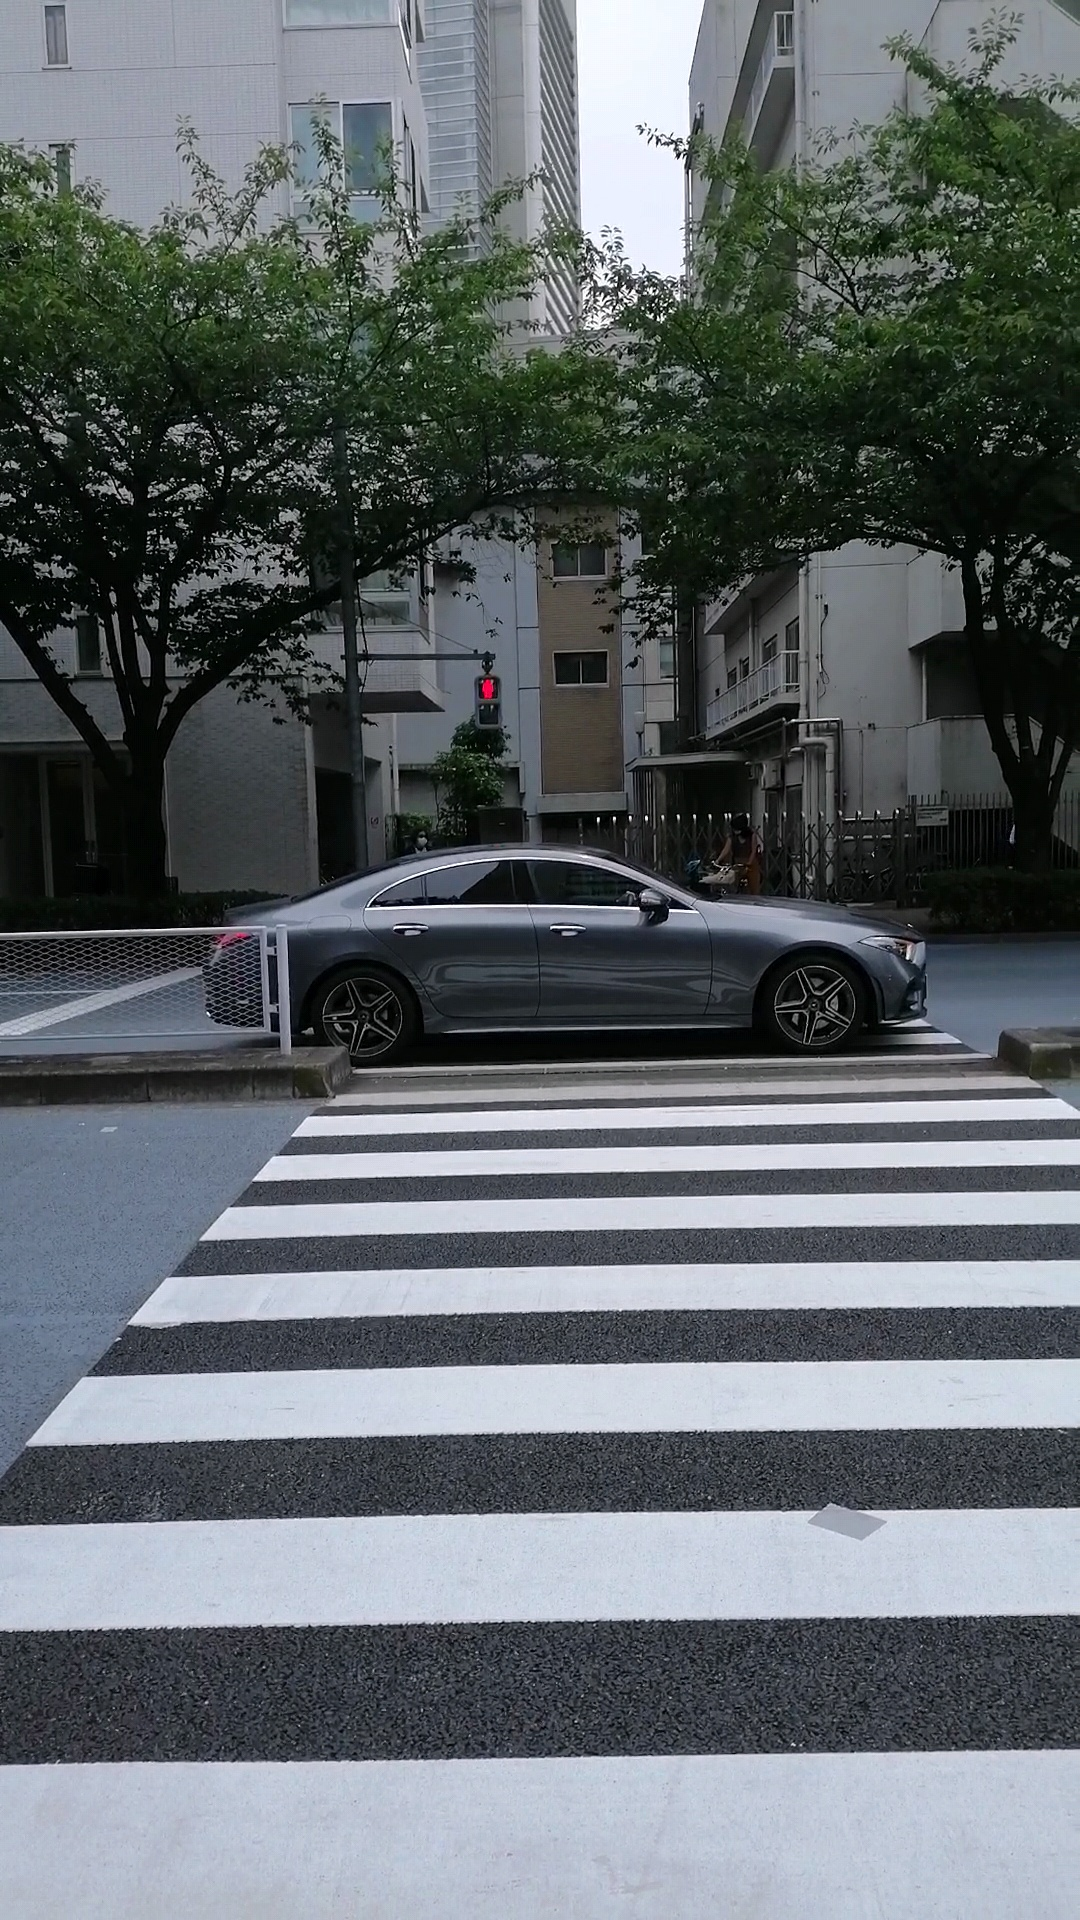red: (473, 676, 502, 727)
